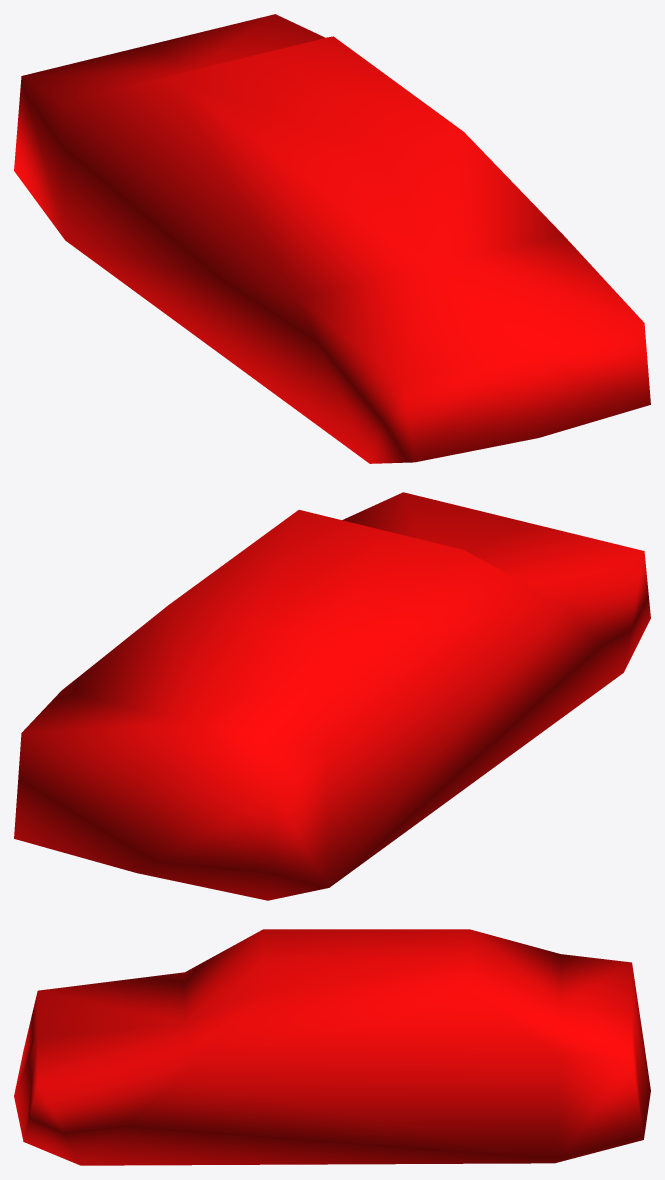
The model's file is car_0014_collider.fbx.
3 views of the same model, one above another, from view 1: azimuth 30°, elevation 25°; view 2: azimuth 150°, elevation 25°; view 3: azimuth 270°, elevation 25° (orthographic). The views are drawn at different scales.
Visible parts, largest first — view 1: Mesh; view 2: Mesh; view 3: Mesh.
Part boxes in pixels (x1,y1,x2,y2): Mesh: [14, 14, 650, 463]; Mesh: [14, 492, 650, 900]; Mesh: [14, 929, 650, 1165].
Bounding box in the file's own units: 182 × 129 × 480.
